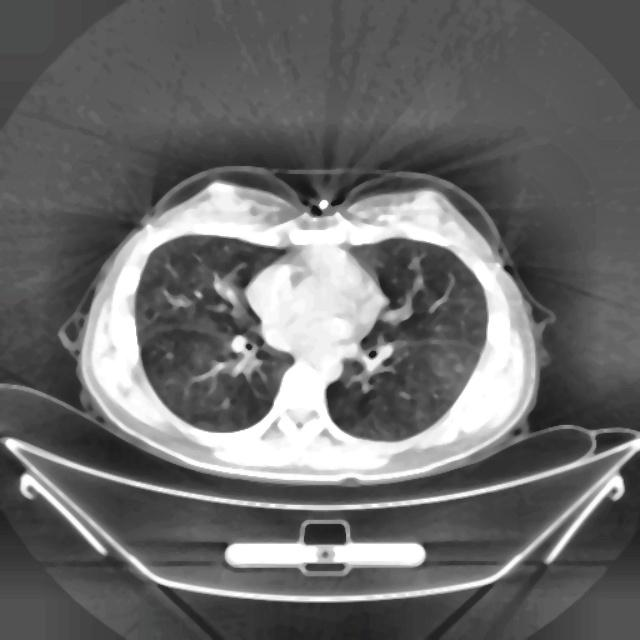covid: (62, 163, 554, 486)
